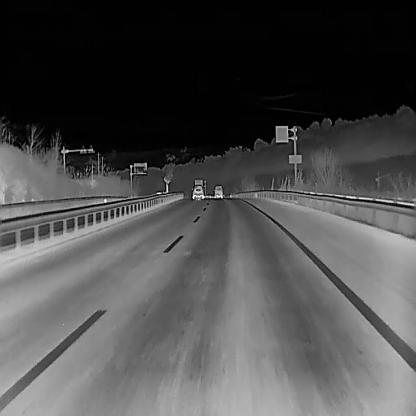car: (190, 184, 204, 200), (212, 185, 223, 199)
